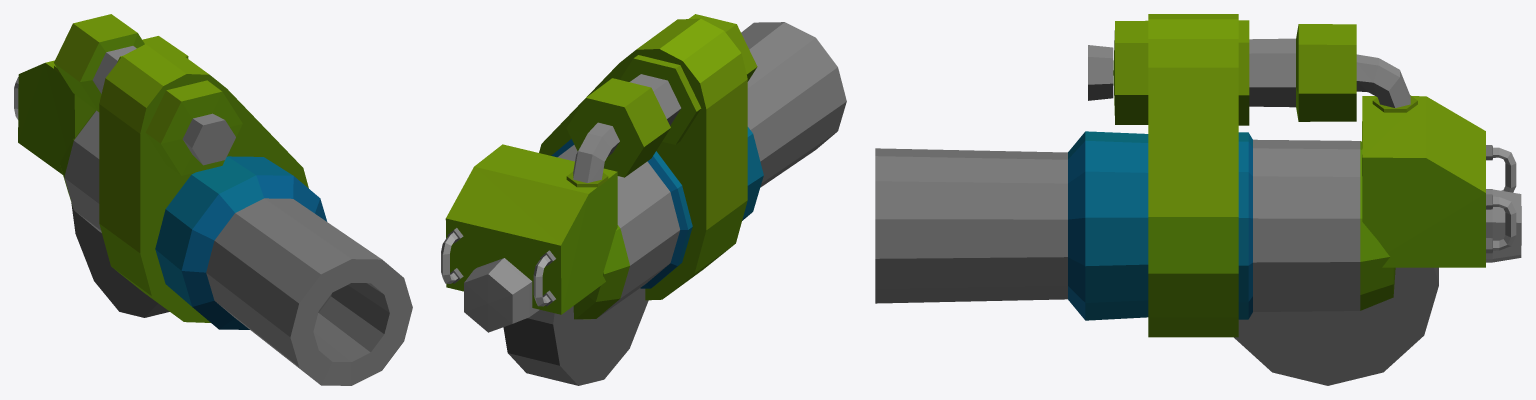
File: MortarG_Barrel02.FBX
3 renders of one model, left to right at view 1: azimuth 30°, elevation 25°; view 2: azimuth 150°, elevation 25°; view 3: azimuth 270°, elevation 25°, orthographic. The views are drawn at different scales.
Visible parts, largest first — view 1: MortarG_Barrel02; view 2: MortarG_Barrel02; view 3: MortarG_Barrel02.
Part boxes in pixels (x1,y1,x2,y2): MortarG_Barrel02: (14, 14, 412, 385); MortarG_Barrel02: (441, 14, 846, 385); MortarG_Barrel02: (875, 14, 1521, 385).
Size of the model in its own units: 122 by 201 by 355.
